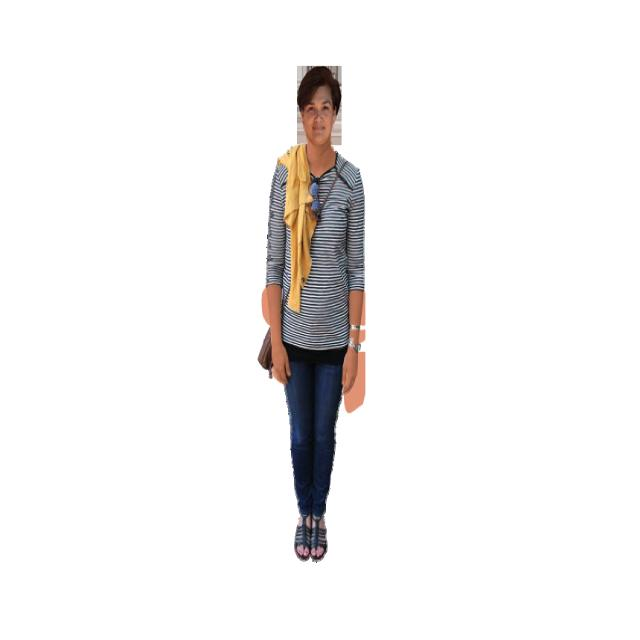jovem: (258, 68, 374, 560)
